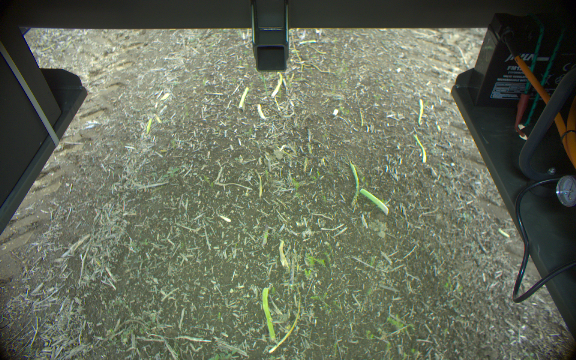aspa: (358, 187, 392, 217), (261, 286, 278, 344), (344, 158, 360, 210), (412, 131, 426, 168), (234, 84, 251, 109), (268, 73, 284, 98), (415, 98, 427, 125), (253, 103, 267, 121)
